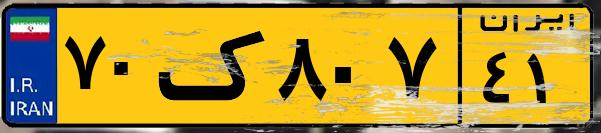0: (330, 28, 385, 110), (110, 28, 158, 98)
1: (525, 38, 570, 115)
4: (475, 38, 525, 113)
7: (385, 28, 445, 110), (57, 26, 110, 100)
8: (270, 28, 330, 110)
ک: (158, 12, 270, 120)
